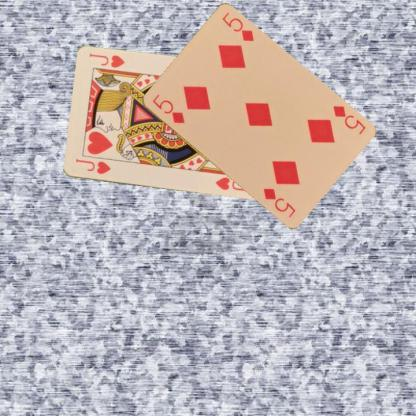5d: (149, 91, 186, 125), (330, 103, 367, 136)
Jh: (73, 156, 111, 176)
